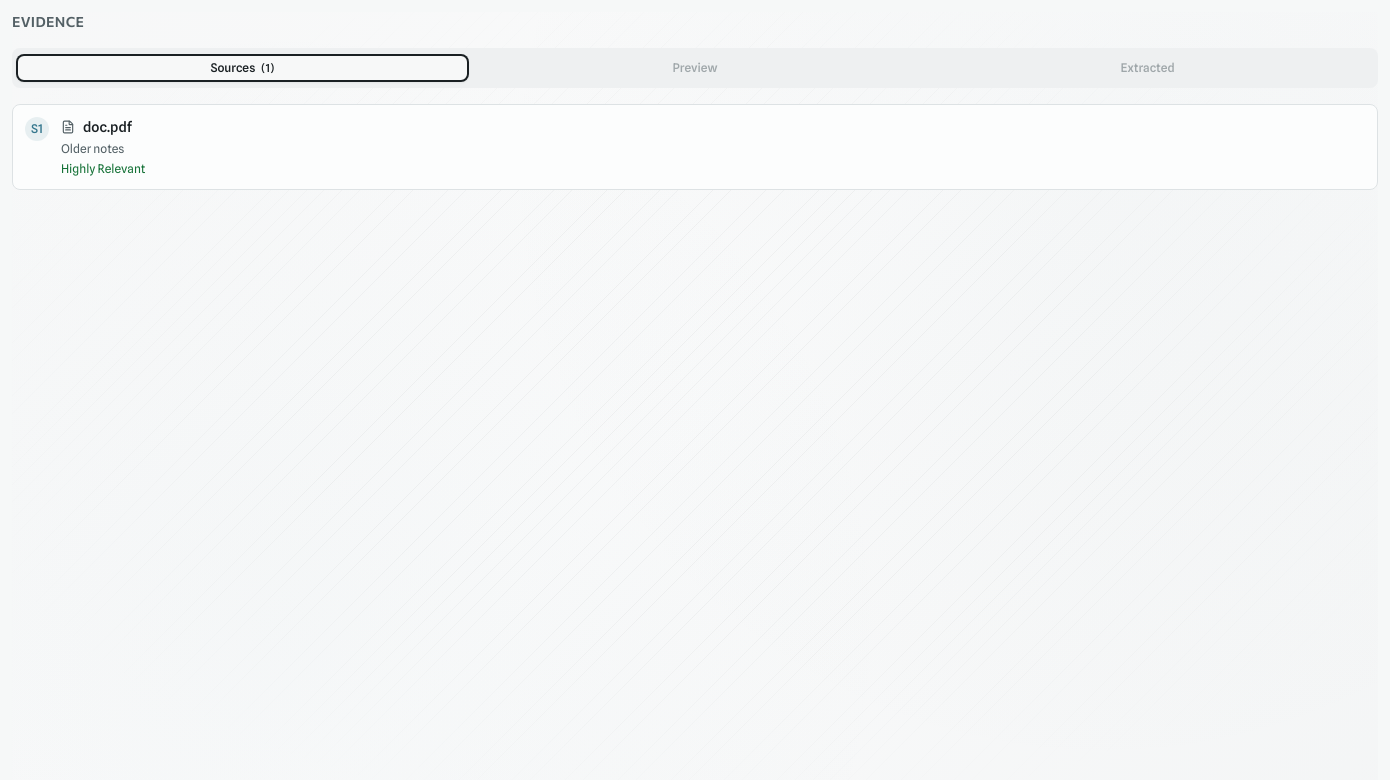
Test case: RightPane › highlightQueryTerms punctuation (UI-036) › marks punctuation-bearing terms (C++ compiler) as search matches
What coordinates should you click on to do the following:
click the button
I would click on:
 (108, 127)
Its box is x1=12 y1=104 x2=1378 y2=190.
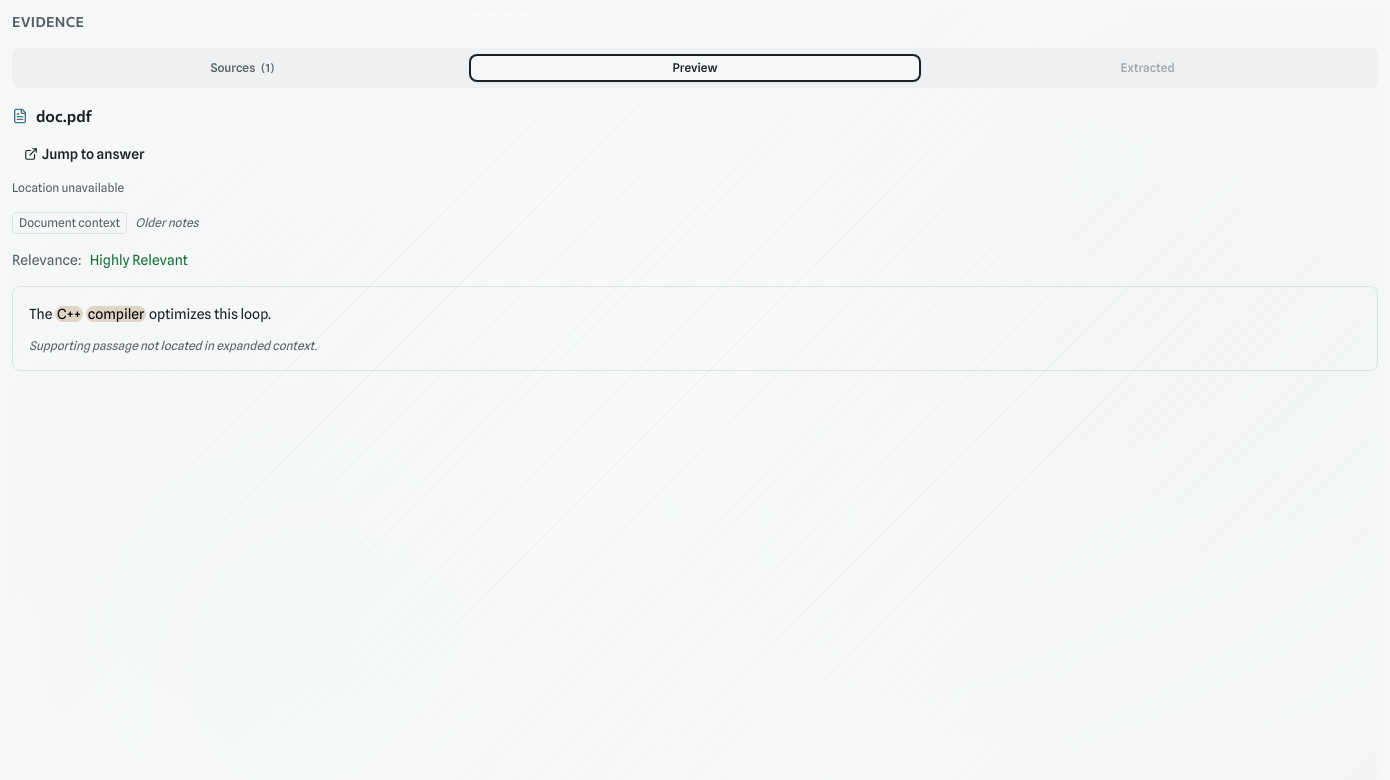
expect the button "Jump to answer" is shown: met, box x1=12 y1=136 x2=156 y2=172
expect the text "C++" is shown: met, box x1=55 y1=306 x2=83 y2=322
expect the text "compiler" is shown: met, box x1=86 y1=306 x2=146 y2=322
